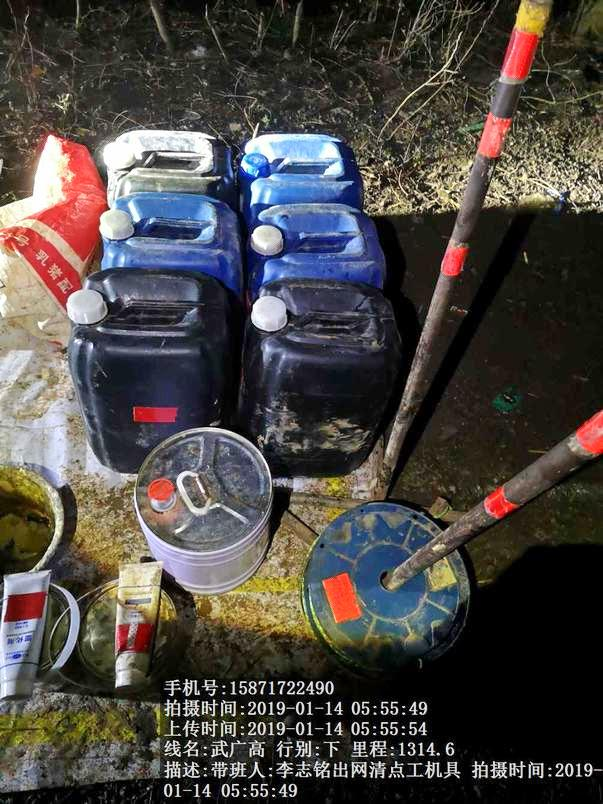SLT: (67, 269, 234, 433), (247, 282, 376, 467), (103, 195, 242, 278), (109, 113, 239, 201), (246, 208, 394, 282), (236, 132, 372, 209)
